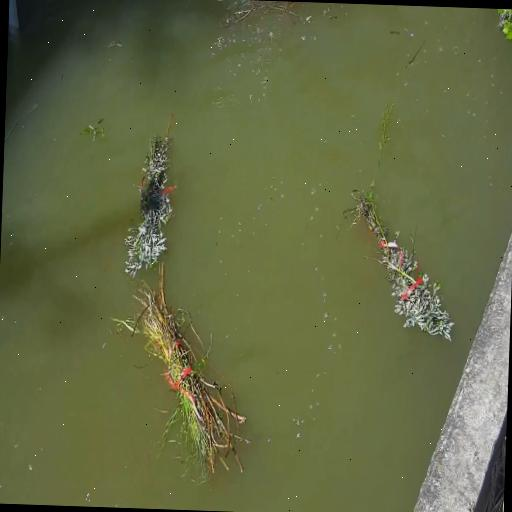twig: (136, 263, 245, 475), (351, 192, 453, 340), (123, 114, 175, 276), (497, 8, 512, 39)
